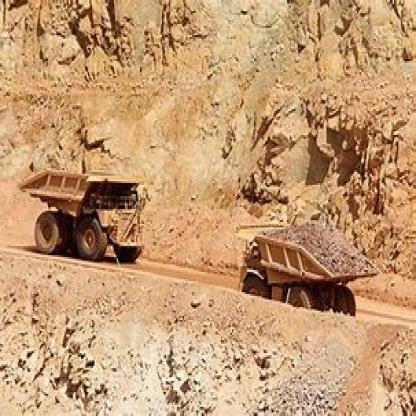dump_truck: (232, 203, 379, 322), (22, 159, 141, 270)
